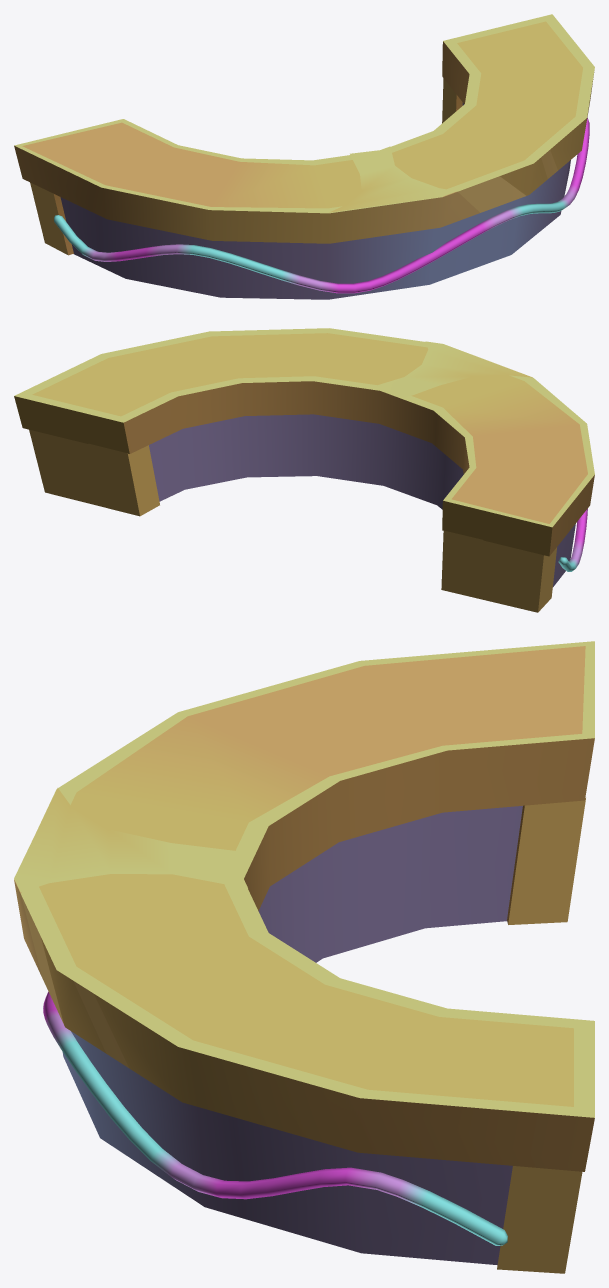
The model's file is DJStageCounter.glb.
3 views of the same model, one above another, from view 1: azimuth 30°, elevation 25°; view 2: azimuth 150°, elevation 25°; view 3: azimuth 270°, elevation 25° (orthographic). The views are drawn at different scales.
Visible parts, largest first — view 1: DJStageCounter; view 2: DJStageCounter; view 3: DJStageCounter.
Boxes of the visible parts, x1,y1,x2,y2 form: DJStageCounter: (14, 14, 594, 299); DJStageCounter: (14, 328, 594, 612); DJStageCounter: (14, 641, 594, 1273).
Bounding box in the file's own units: 2.94 × 0.5154 × 1.51.
